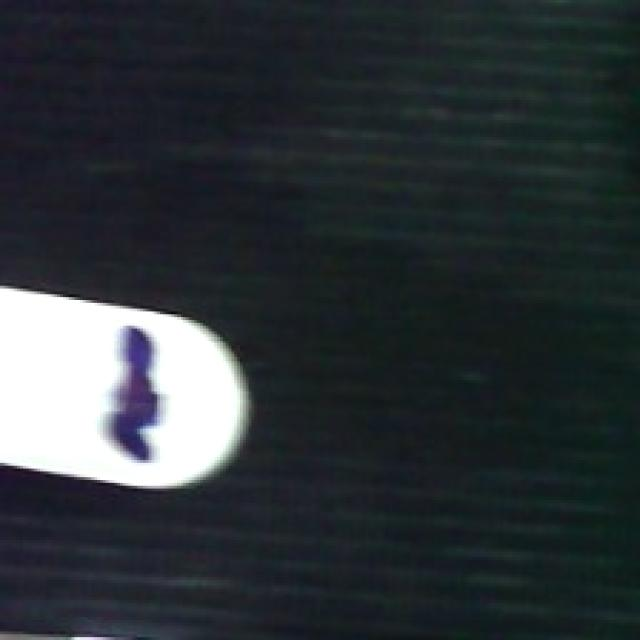defected: (0, 277, 254, 494)
